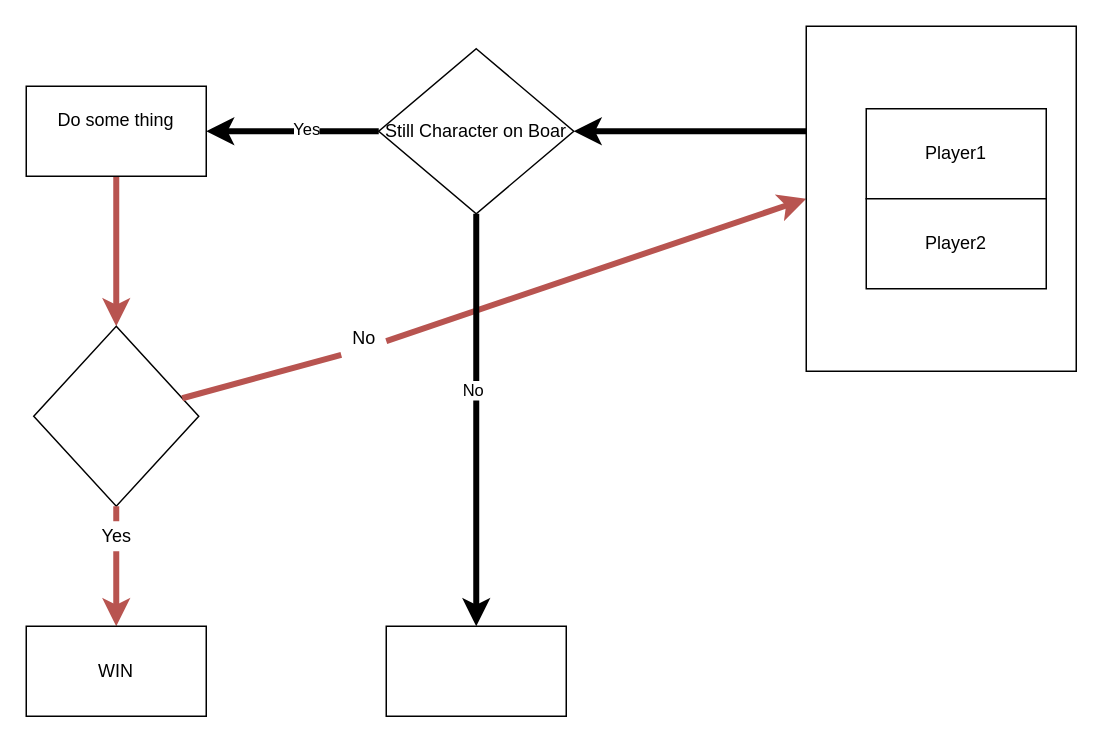
Some shapes in this 1103 by 743 pixel diagram are drawn without their labels. The shapes that lost their labels are listed below. From the top down, each one's box as (x1, y1, x2, y2) in pixels, then its label:
(32, 325, 199, 506): Opponent Defeated
(385, 625, 566, 716): LOSE
